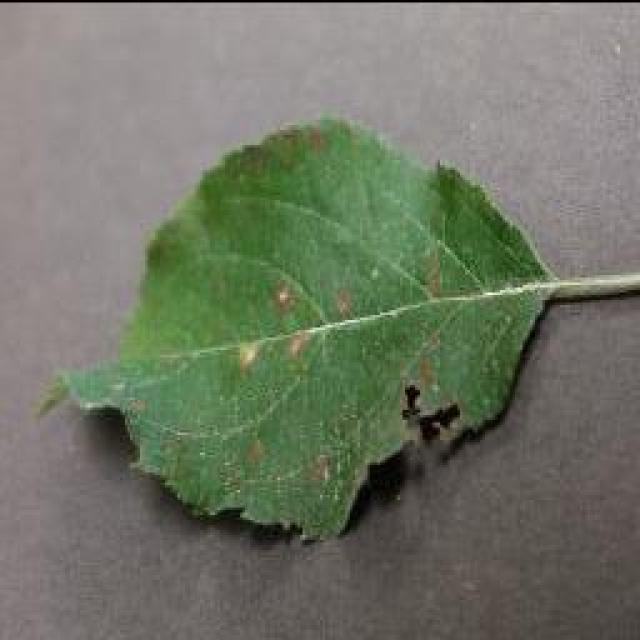apple healthy: (35, 113, 637, 545)
